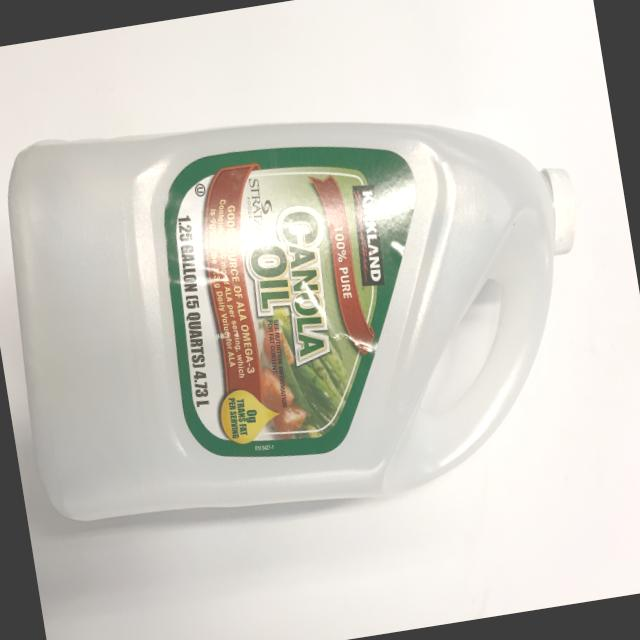Plastic: (0, 29, 638, 580)
